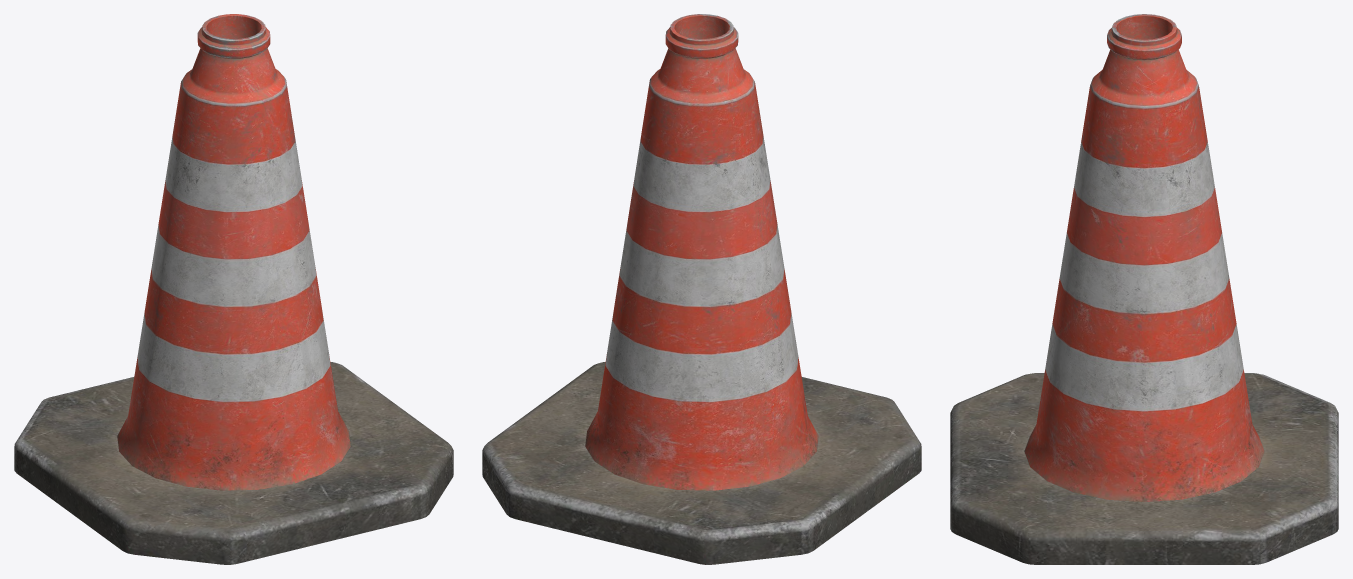
Rendered from SM_Street_Cone02.glb.
The picture shows the model from 3 angles, left to right: view 1: azimuth 30°, elevation 25°; view 2: azimuth 150°, elevation 25°; view 3: azimuth 270°, elevation 25°; orthographic projection. The views are drawn at different scales.
Parts seen in each view (by area): view 1: SM_Street_Cone02; view 2: SM_Street_Cone02; view 3: SM_Street_Cone02.
Boxes of the visible parts, x1,y1,x2,y2 form: SM_Street_Cone02: (14, 14, 453, 564); SM_Street_Cone02: (482, 14, 921, 564); SM_Street_Cone02: (950, 14, 1338, 564).
Bounding box in the file's own units: 0.364 × 0.4708 × 0.364.
Materials: 1 (1 with a texture image).
